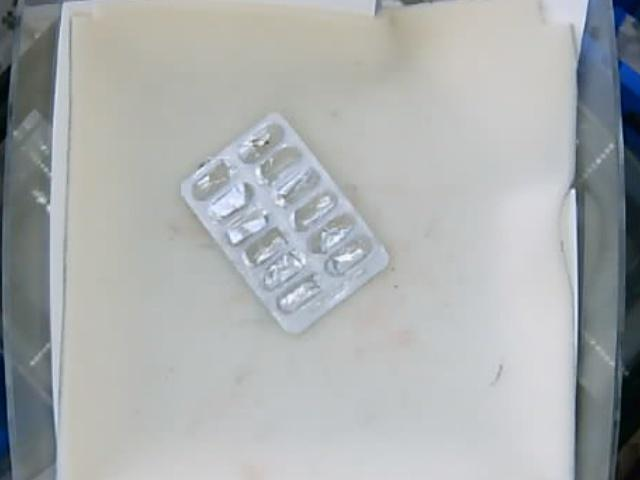Medicine: (184, 111, 389, 340)
